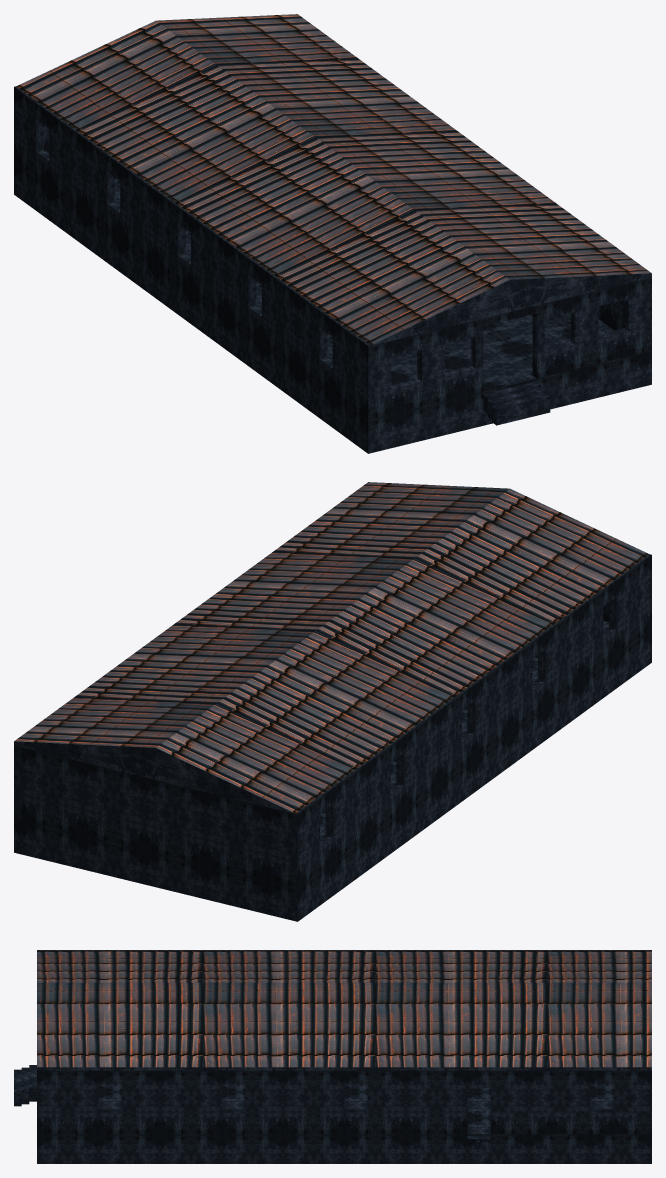
File: HospitalGalpon.fbx
3 views of the same model, one above another, from view 1: azimuth 30°, elevation 25°; view 2: azimuth 150°, elevation 25°; view 3: azimuth 270°, elevation 25° (orthographic). The views are drawn at different scales.
Parts seen in each view (by area): view 1: ROOF2.002; view 2: ROOF2.002; view 3: ROOF2.002.
Part boxes in pixels (x1,y1,x2,y2): ROOF2.002: [14, 14, 651, 453]; ROOF2.002: [14, 482, 651, 921]; ROOF2.002: [14, 950, 651, 1163].
Bounding box in the file's own units: 608 × 278 × 1328.
Materials: 2 (2 with a texture image).
